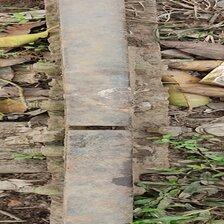railway-gap: (54, 84, 150, 171)
